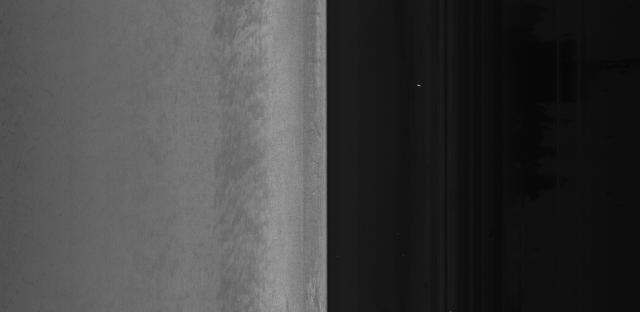silk_spot: (213, 101, 273, 191)
